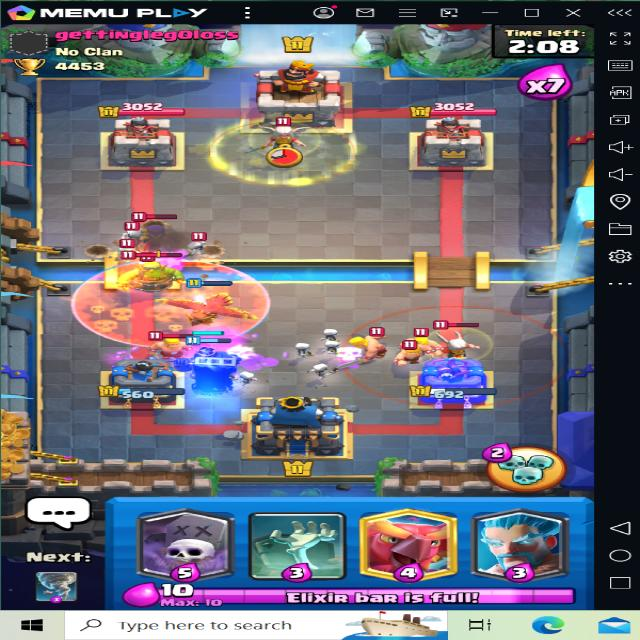barbarian: (151, 326, 194, 363), (349, 330, 397, 362), (404, 328, 447, 358), (389, 340, 432, 370)
battle-healer: (427, 318, 495, 366), (250, 116, 318, 155)
goblin-demolisher: (120, 251, 185, 295)
skeleton: (184, 232, 214, 254), (109, 239, 136, 255), (118, 222, 143, 235)
witch: (128, 215, 184, 256)
